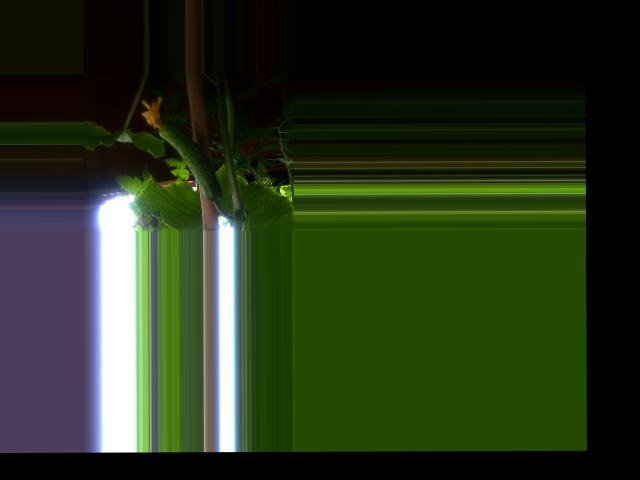cucumber: (139, 96, 221, 201)
